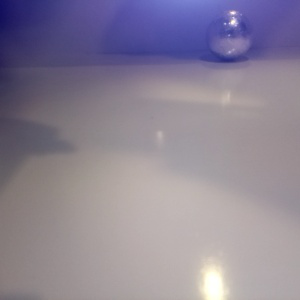alive_ball: (207, 8, 252, 58)
